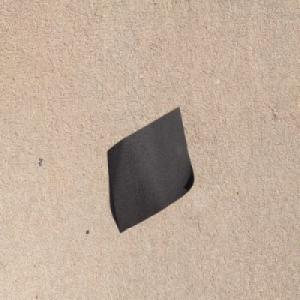PaintChip: (106, 105, 195, 235)
